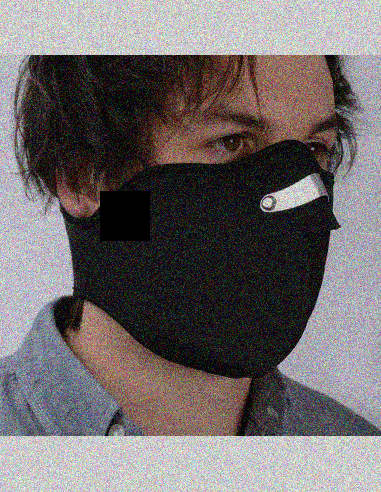with_mask: (99, 100, 340, 382)
